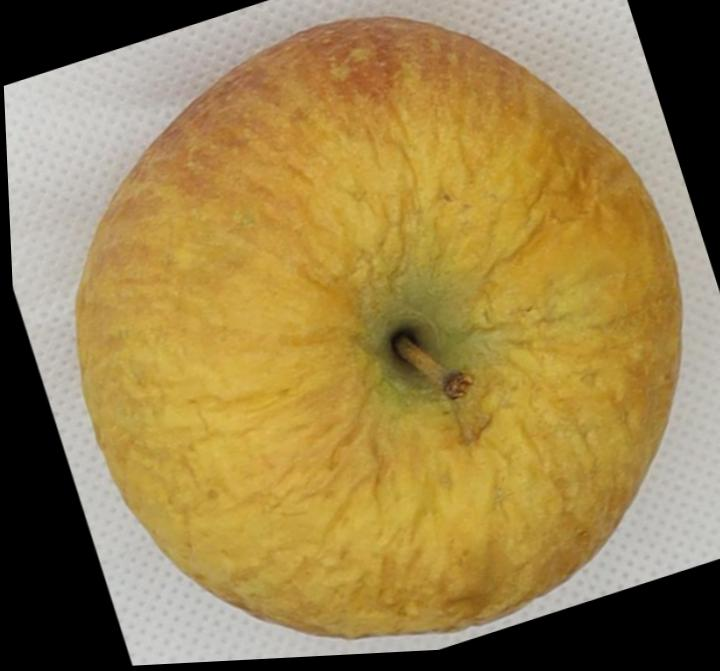apple: (77, 16, 681, 637)
rot_mold_decay: (76, 16, 681, 637)
